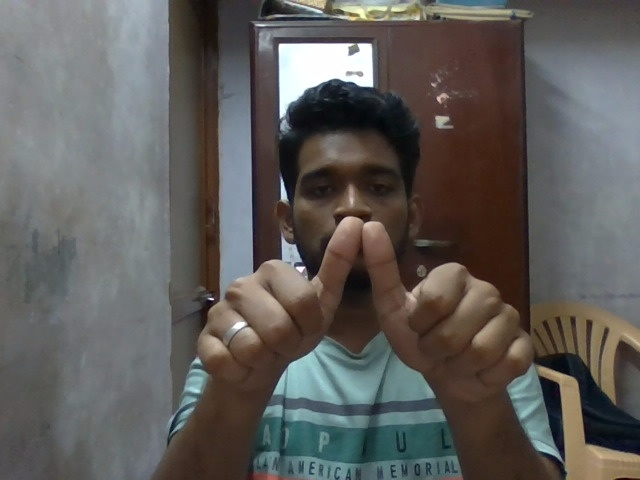A: (192, 213, 537, 413)
